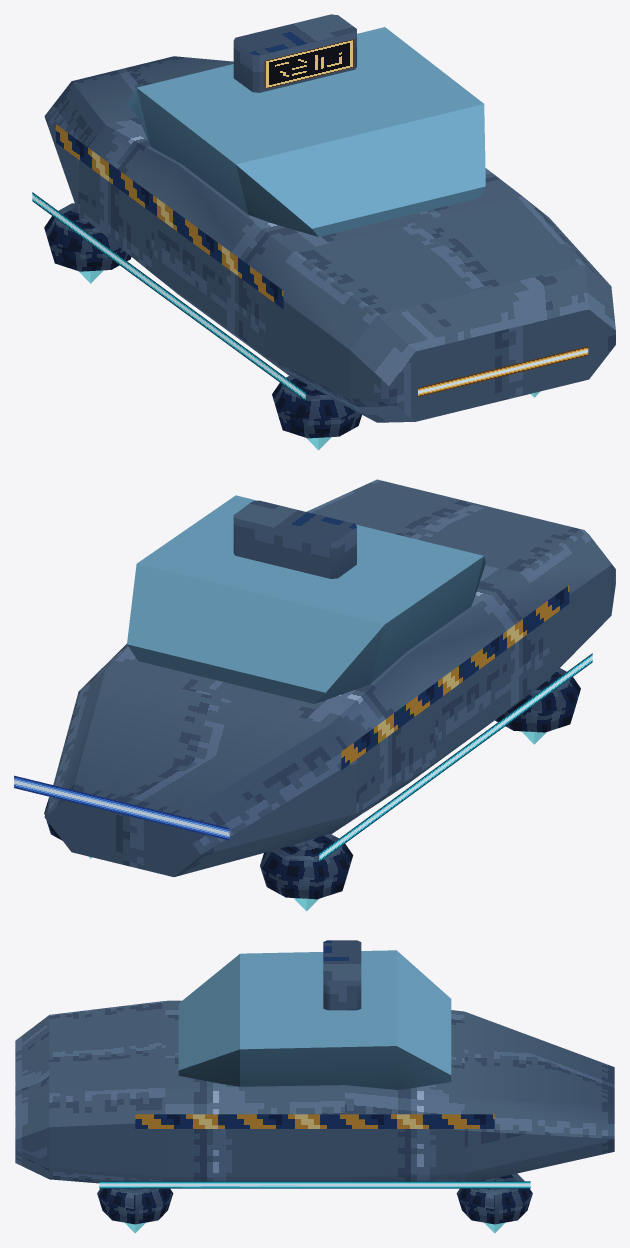
The model's file is cytech.hovercar__taxi.glb.
3 renders of one model, top to bottom at view 1: azimuth 30°, elevation 25°; view 2: azimuth 150°, elevation 25°; view 3: azimuth 270°, elevation 25°, orthographic. The views are drawn at different scales.
Visible parts, largest first — view 1: kit_hull, kit_canopy, kit_card_lights, kit_pods; view 2: kit_hull, kit_canopy, kit_card_lights, kit_pods; view 3: kit_hull, kit_canopy, kit_card_lights, kit_pods.
Boxes of the visible parts, x1,y1,x2,y2 form: kit_hull: (44, 14, 615, 422); kit_canopy: (127, 27, 485, 236); kit_card_lights: (32, 39, 588, 400); kit_pods: (44, 203, 540, 450); kit_hull: (44, 479, 615, 876); kit_canopy: (127, 495, 485, 703); kit_card_lights: (14, 585, 592, 861); kit_pods: (44, 668, 580, 911); kit_hull: (15, 940, 614, 1183); kit_canopy: (178, 950, 451, 1089); kit_card_lights: (99, 1114, 530, 1188); kit_pods: (97, 1173, 532, 1233).
Bounding box in the file's own units: 2 × 1.88 × 4.42.
7 materials, 6 textured.
